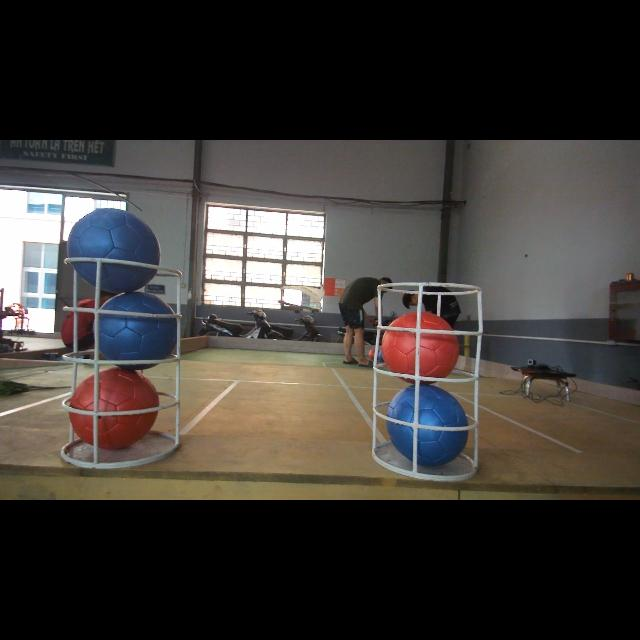B: (66, 204, 164, 290), (382, 382, 470, 473), (99, 292, 181, 370)
R: (71, 369, 157, 449), (381, 310, 457, 384)
